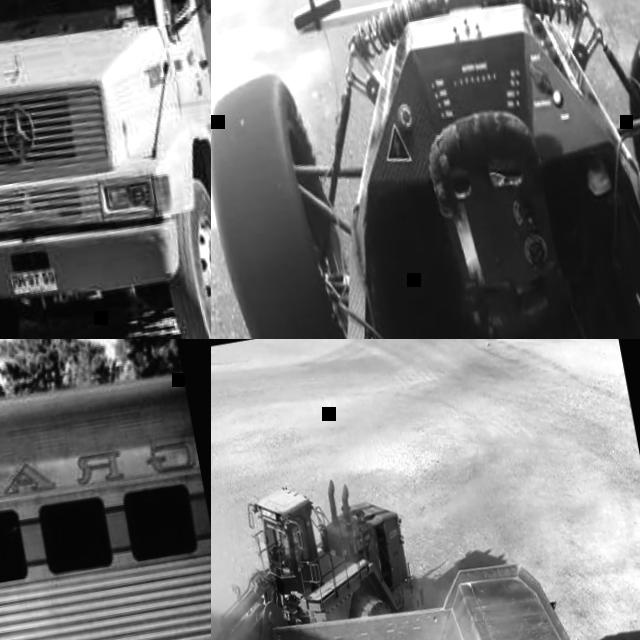NO-Safety Vest: (7, 0, 47, 19)
Person: (0, 0, 52, 19), (277, 527, 301, 559)
Safety Vest: (279, 531, 300, 558)
machinery: (0, 0, 211, 339), (211, 459, 450, 640), (237, 542, 637, 640)
vehicle: (211, 0, 640, 339)
